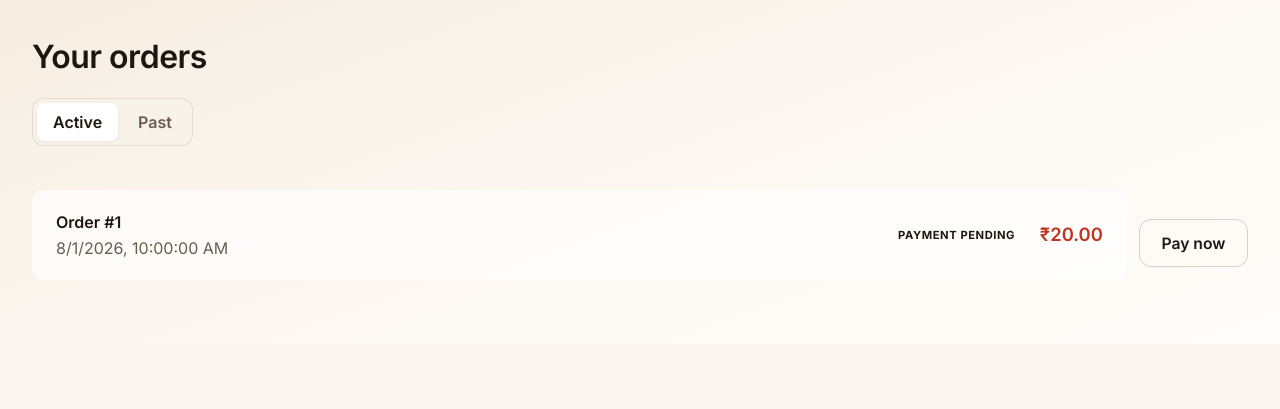
OrdersPage payment › explains when the order can no longer be paid online
Expected: the text "Order #1" is shown, [56,212,121,232]
Click the button "Pay now". click: (1193, 243)
box: [1139,219,1248,267]
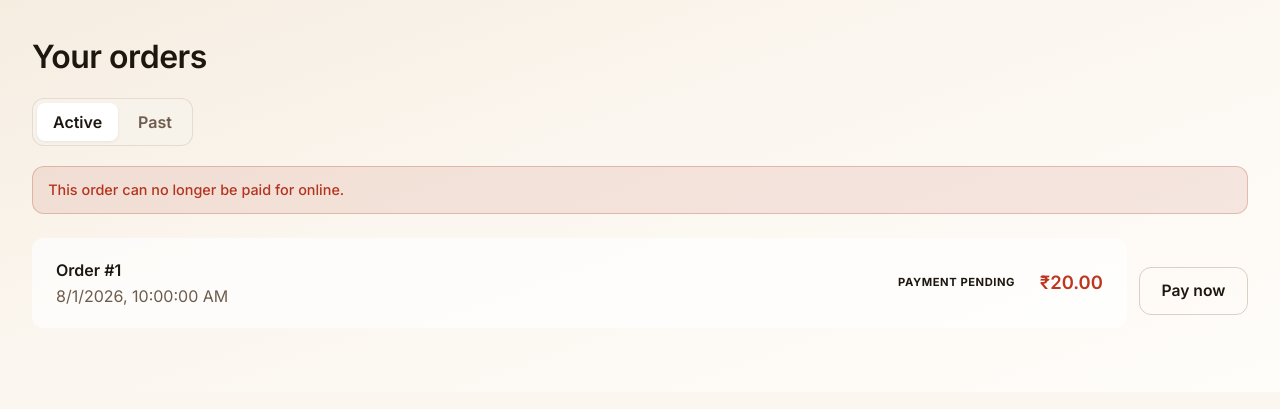
Now the text "This order can no longer be paid for online." is shown, box [32,166,1248,214]
